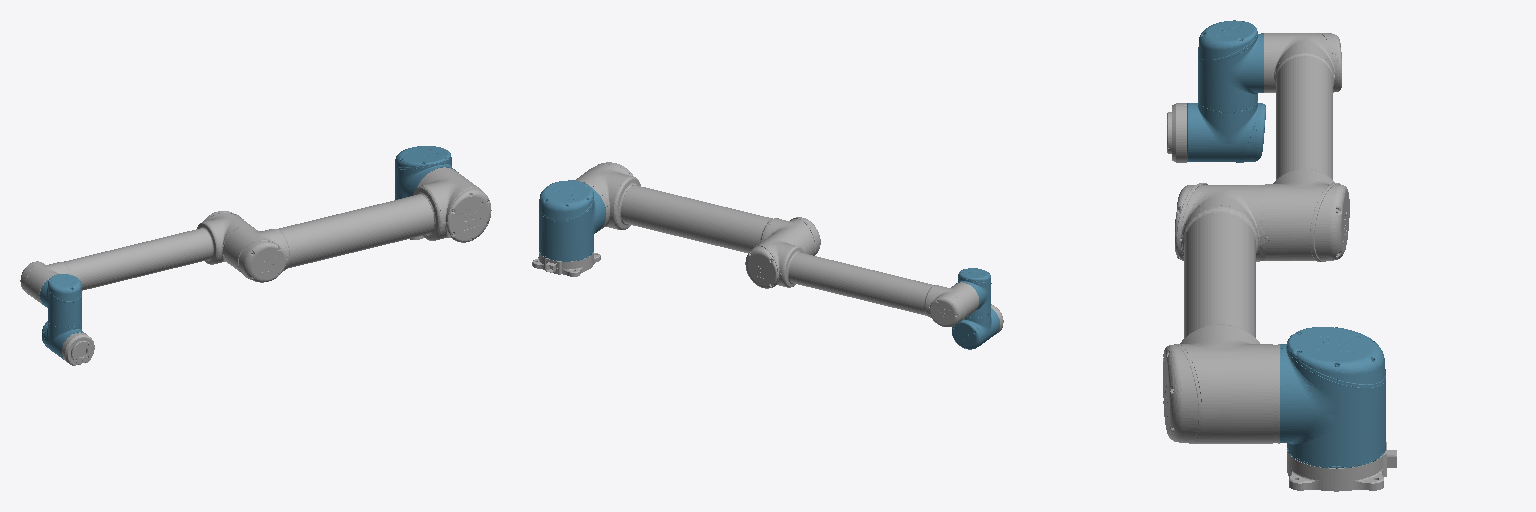
URDF robot description (UniversalRobots_UR10):
<?xml version="1.0"?>
<robot name="UniversalRobots_UR10">
  <!-- link list -->
  <link name="base_link">
    <visual>
      <geometry>
        <mesh filename="Visual/BaseLink.dae" />
      </geometry>
      <material name="LightGrey">
        <color rgba="0.7 0.7 0.7 1.0" />
      </material>
    </visual>
    <collision>
      <geometry>
        <mesh filename="Collision/BaseLink.stl" />
      </geometry>
    </collision>
    <inertial>
      <mass value="4.0" />
      <origin rpy="0 0 0" xyz="0.0 0.0 0.0" />
      <inertia ixx="0.0061063308908" ixy="0.0" ixz="0.0" iyy="0.0061063308908" iyz="0.0" izz="0.01125" />
    </inertial>
  </link>
  <link name="Link1">
    <visual>
      <geometry>
        <mesh filename="Visual/Link1.dae" />
      </geometry>
      <material name="Blue">
        <color rgba="0.376 0.576 0.674 1.0"/>
      </material>
    </visual>
    <collision>
      <geometry>
        <mesh filename="Collision/Link1.stl" />
      </geometry>
    </collision>
    <inertial>
      <mass value="7.778" />
      <origin rpy="0 0 0" xyz="0.0 0.0 0.0" />
      <inertia ixx="0.0314743125769" ixy="0.0" ixz="0.0" iyy="0.0314743125769" iyz="0.0" izz="0.021875625" />
    </inertial>
  </link>
  <link name="Link2">
    <visual>
      <geometry>
        <mesh filename="Visual/Link2.dae" />
      </geometry>
      <material name="LightGrey">
        <color rgba="0.7 0.7 0.7 1.0" />
      </material>
    </visual>
    <collision>
      <geometry>
        <mesh filename="Collision/Link2.stl" />
      </geometry>
    </collision>
    <inertial>
      <mass value="12.93" />
      <origin rpy="0 0 0" xyz="0.0 -0.045 0.306" />
      <inertia ixx="0.421753803798" ixy="0.0" ixz="0.0" iyy="0.421753803798" iyz="0.0" izz="0.036365625" />
    </inertial>
  </link>
  <link name="Link3">
    <visual>
      <geometry>
        <mesh filename="Visual/Link3.dae" />
      </geometry>
      <material name="LightGrey">
        <color rgba="0.7 0.7 0.7 1.0" />
      </material>
    </visual>
    <collision>
      <geometry>
        <mesh filename="Collision/Link3.stl" />
      </geometry>
    </collision>
    <inertial>
      <mass value="3.87" />
      <origin rpy="0 0 0" xyz="0.0 0.0 0.28615" />
      <inertia ixx="0.111069694097" ixy="0.0" ixz="0.0" iyy="0.111069694097" iyz="0.0" izz="0.010884375" />
    </inertial>
  </link>
  <link name="Link4">
    <visual>
      <geometry>
        <mesh filename="Visual/Link4.dae" />
      </geometry>
      <material name="Blue">
        <color rgba="0.376 0.576 0.674 1.0"/>
      </material>
    </visual>
    <collision>
      <geometry>
        <mesh filename="Collision/Link4.stl" />
      </geometry>
    </collision>
    <inertial>
      <mass value="1.96" />
      <origin rpy="0 0 0" xyz="0.0 0.1149 0.0" />
      <inertia ixx="0.0051082479567" ixy="0.0" ixz="0.0" iyy="0.0051082479567" iyz="0.0" izz="0.0055125" />
    </inertial>
  </link>
  <link name="Link5">
    <visual>
      <geometry>
        <mesh filename="Visual/Link5.dae" />
      </geometry>
      <material name="Blue">
        <color rgba="0.376 0.576 0.674 1.0"/>
      </material>
    </visual>
    <collision>
      <geometry>
        <mesh filename="Collision/Link5.stl" />
      </geometry>
    </collision>
    <inertial>
      <mass value="1.96" />
      <origin rpy="0 0 0" xyz="0.0 0.0 0.1157" />
      <inertia ixx="0.0051082479567" ixy="0.0" ixz="0.0" iyy="0.0051082479567" iyz="0.0" izz="0.0055125" />
    </inertial>
  </link>
  <link name="Link6">
    <visual>
      <geometry>
        <mesh filename="Visual/Link6.dae" />
      </geometry>
      <material name="LightGrey">
        <color rgba="0.7 0.7 0.7 1.0" />
      </material>
    </visual>
    <collision>
      <geometry>
        <mesh filename="Collision/Link6.stl" />
      </geometry>
    </collision>
    <inertial>
      <mass value="0.202" />
      <origin rpy="1.57079632679 0 0" xyz="0.0 0.07695 0.0" />
      <inertia ixx="0.000117921661165" ixy="0.0" ixz="0.0" iyy="0.000117921661165" iyz="0.0" izz="0.000204525" />
    </inertial>
  </link>
  <link name="ee_link" />
  <!-- end of link list -->

  <!-- joint list -->
  <joint name="Joint1" type="revolute">
    <parent link="base_link" />
    <child link="Link1" />
    <origin rpy="0.0 0.0 3.141592653589793" xyz="0.0 0.0 0.1273" />
    <axis xyz="0 0 1" />
    <limit effort="330.0" lower="-6.28318530718" upper="6.28318530718" velocity="2.16" />
    <dynamics damping="0.0" friction="0.0" />
  </joint>
  <joint name="Joint2" type="revolute">
    <parent link="Link1" />
    <child link="Link2" />
    <origin rpy="0.0 1.57079632679 0.0" xyz="0.0 0.220941 0.0" />
    <axis xyz="0 1 0" />
    <limit effort="330.0" lower="-6.28318530718" upper="6.28318530718" velocity="2.16" />
    <dynamics damping="0.0" friction="0.0" />
  </joint>
  <joint name="Joint3" type="revolute">
    <parent link="Link2" />
    <child link="Link3" />
    <origin rpy="0.0 0.0 0.0" xyz="0.0 -0.1719 0.612" />
    <axis xyz="0 1 0" />
    <limit effort="150.0" lower="-3.14159265359" upper="3.14159265359" velocity="3.15" />
    <dynamics damping="0.0" friction="0.0" />
  </joint>
  <joint name="Joint4" type="revolute">
    <parent link="Link3" />
    <child link="Link4" />
    <origin rpy="0.0 1.57079632679 0.0" xyz="0.0 0.0 0.5723" />
    <axis xyz="0 1 0" />
    <limit effort="54.0" lower="-6.28318530718" upper="6.28318530718" velocity="3.2" />
    <dynamics damping="0.0" friction="0.0" />
  </joint>
  <joint name="Joint5" type="revolute">
    <parent link="Link4" />
    <child link="Link5" />
    <origin rpy="0.0 0.0 0.0" xyz="0.0 0.1149 0.0" />
    <axis xyz="0 0 1" />
    <limit effort="54.0" lower="-6.28318530718" upper="6.28318530718" velocity="3.2" />
    <dynamics damping="0.0" friction="0.0" />
  </joint>
  <joint name="Joint6" type="revolute">
    <parent link="Link5" />
    <child link="Link6" />
    <origin rpy="0.0 0.0 0.0" xyz="0.0 0.0 0.1157" />
    <axis xyz="0 1 0" />
    <limit effort="54.0" lower="-6.28318530718" upper="6.28318530718" velocity="3.2" />
    <dynamics damping="0.0" friction="0.0" />
  </joint>
  <joint name="jointEE" type="fixed">
    <parent link="Link6" />
    <child link="ee_link" />
    <origin rpy="-1.57079632679 0.0 0.0" xyz="0.0 0.0922 0.0" />
  </joint>
  <!-- end of joint list -->

</robot>

--- Render facts (derived) ---
Views: 3 orthographic renders of the robot side by side, from view 1: azimuth 30°, elevation 25°; view 2: azimuth 150°, elevation 25°; view 3: azimuth 270°, elevation 25°.
Model UniversalRobots_UR10 with 8 links and 7 joints (6 revolute, 1 fixed), rooted at base_link, posed all joints at 0.
Links seen in each view (by area): view 1: Link2, Link3, Link1, Link4, Link6, Link5; view 2: Link2, Link3, Link1, Link5, Link4, base_link; view 3: Link2, Link3, Link1, Link4, Link5, base_link, Link6.
Boxes of the visible links, x1=… form: Link2: x1=225, y1=167, x2=491, y2=282; Link3: x1=20, y1=211, x2=253, y2=304; Link1: x1=395, y1=146, x2=458, y2=199; Link4: x1=40, y1=274, x2=81, y2=327; Link6: x1=62, y1=332, x2=94, y2=365; Link5: x1=42, y1=321, x2=85, y2=359; Link2: x1=575, y1=162, x2=820, y2=255; Link3: x1=745, y1=233, x2=978, y2=326; Link1: x1=539, y1=180, x2=605, y2=261; Link5: x1=952, y1=308, x2=999, y2=349; Link4: x1=956, y1=268, x2=991, y2=317; base_link: x1=532, y1=252, x2=600, y2=276; Link2: x1=1163, y1=148, x2=1279, y2=443; Link3: x1=1260, y1=33, x2=1349, y2=261; Link1: x1=1280, y1=327, x2=1385, y2=468; Link4: x1=1198, y1=20, x2=1263, y2=112; Link5: x1=1187, y1=101, x2=1265, y2=162; base_link: x1=1287, y1=442, x2=1396, y2=491; Link6: x1=1167, y1=103, x2=1186, y2=162.
Bounding box of the posed robot: 1.31 × 0.3552 × 0.2635 m (x, y, z).
7 mesh visuals loaded from 7 distinct referenced files (7 Collada DAE).
